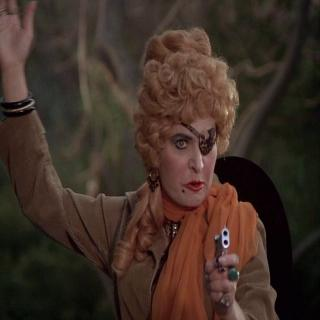gun: (201, 217, 249, 316)
